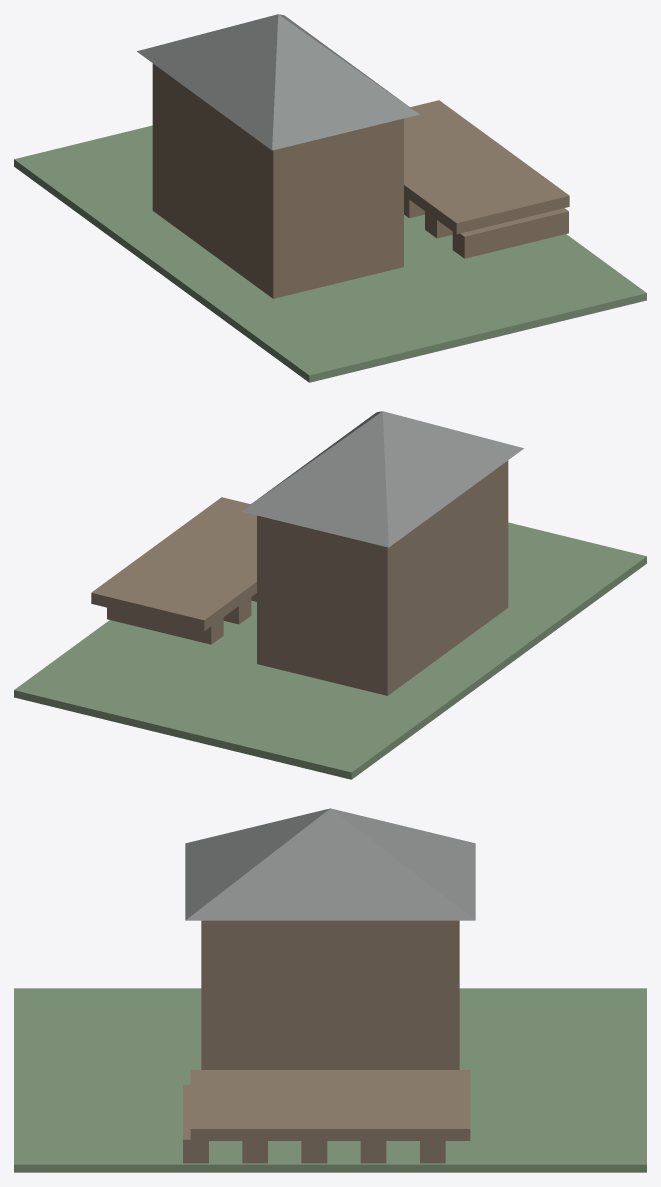
The model's file is logging_camp_2x3.glb.
3 renders of one model, top to bottom at view 1: azimuth 30°, elevation 25°; view 2: azimuth 150°, elevation 25°; view 3: azimuth 270°, elevation 25°, orthographic. The views are drawn at different scales.
Parts seen in each view (by area): view 1: logging_camp_2x3; view 2: logging_camp_2x3; view 3: logging_camp_2x3.
Part boxes in pixels (x1,y1,x2,y2): logging_camp_2x3: (14, 14, 646, 382); logging_camp_2x3: (14, 411, 646, 779); logging_camp_2x3: (14, 808, 646, 1172).
Bounding box in the file's own units: 3.91 × 2.53 × 5.84.
